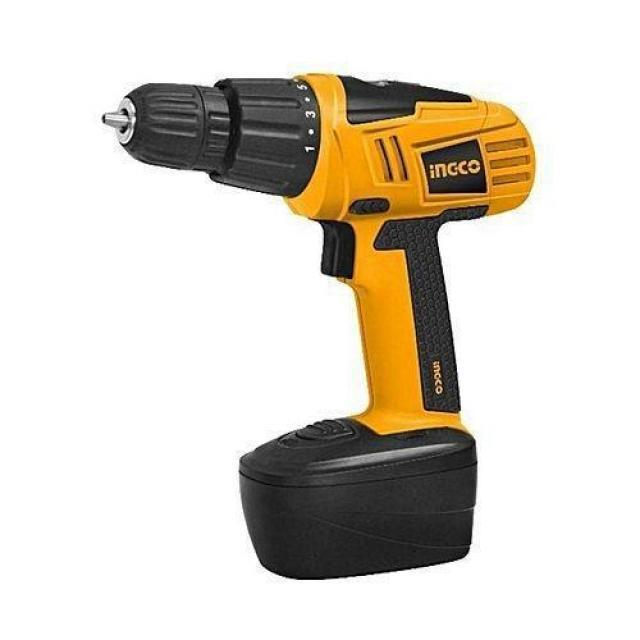drill: (100, 73, 535, 580)
